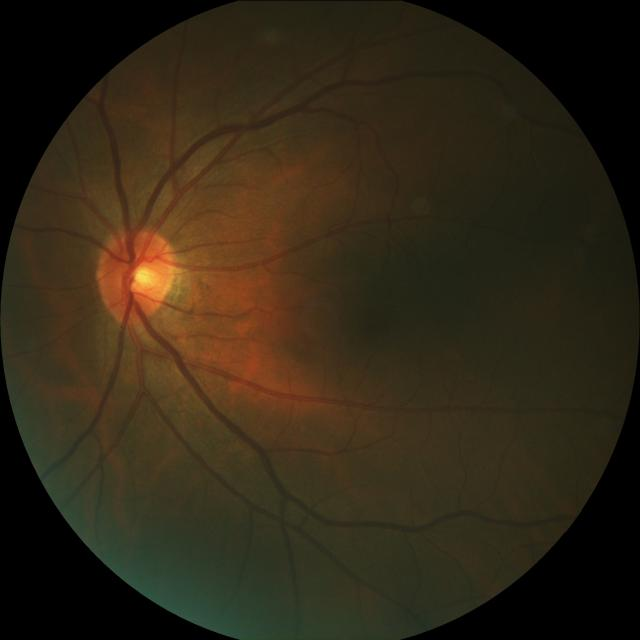OC: (122, 256, 162, 301)
OD: (95, 225, 174, 322)
